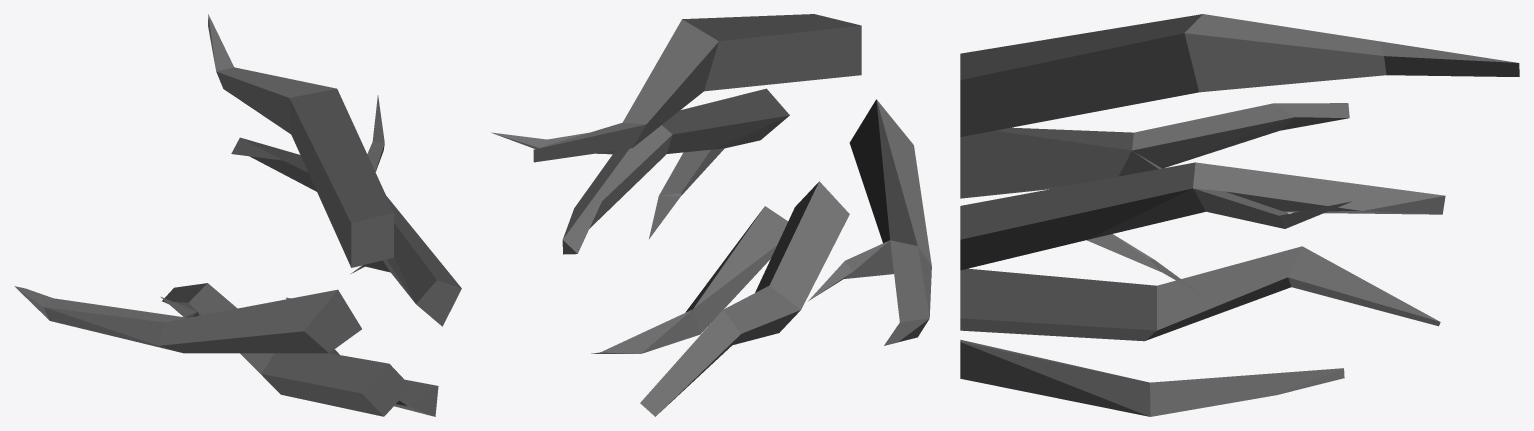
File: winter_night_stick_4.fbx
3 renders of one model, left to right at view 1: azimuth 30°, elevation 25°; view 2: azimuth 150°, elevation 25°; view 3: azimuth 270°, elevation 25°, orthographic. The views are drawn at different scales.
Parts seen in each view (by area): view 1: winter_night_stick_4; view 2: winter_night_stick_4; view 3: winter_night_stick_4.
Boxes of the visible parts, box(x1,y1,x2,y2) form: winter_night_stick_4: box(14, 14, 461, 416); winter_night_stick_4: box(491, 14, 931, 416); winter_night_stick_4: box(960, 14, 1519, 416).
Bounding box in the file's own units: 124 × 95.84 × 129.
